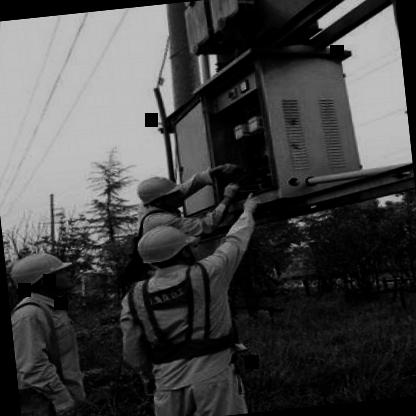helmet: (132, 217, 202, 275), (8, 247, 78, 304), (128, 167, 190, 224)
